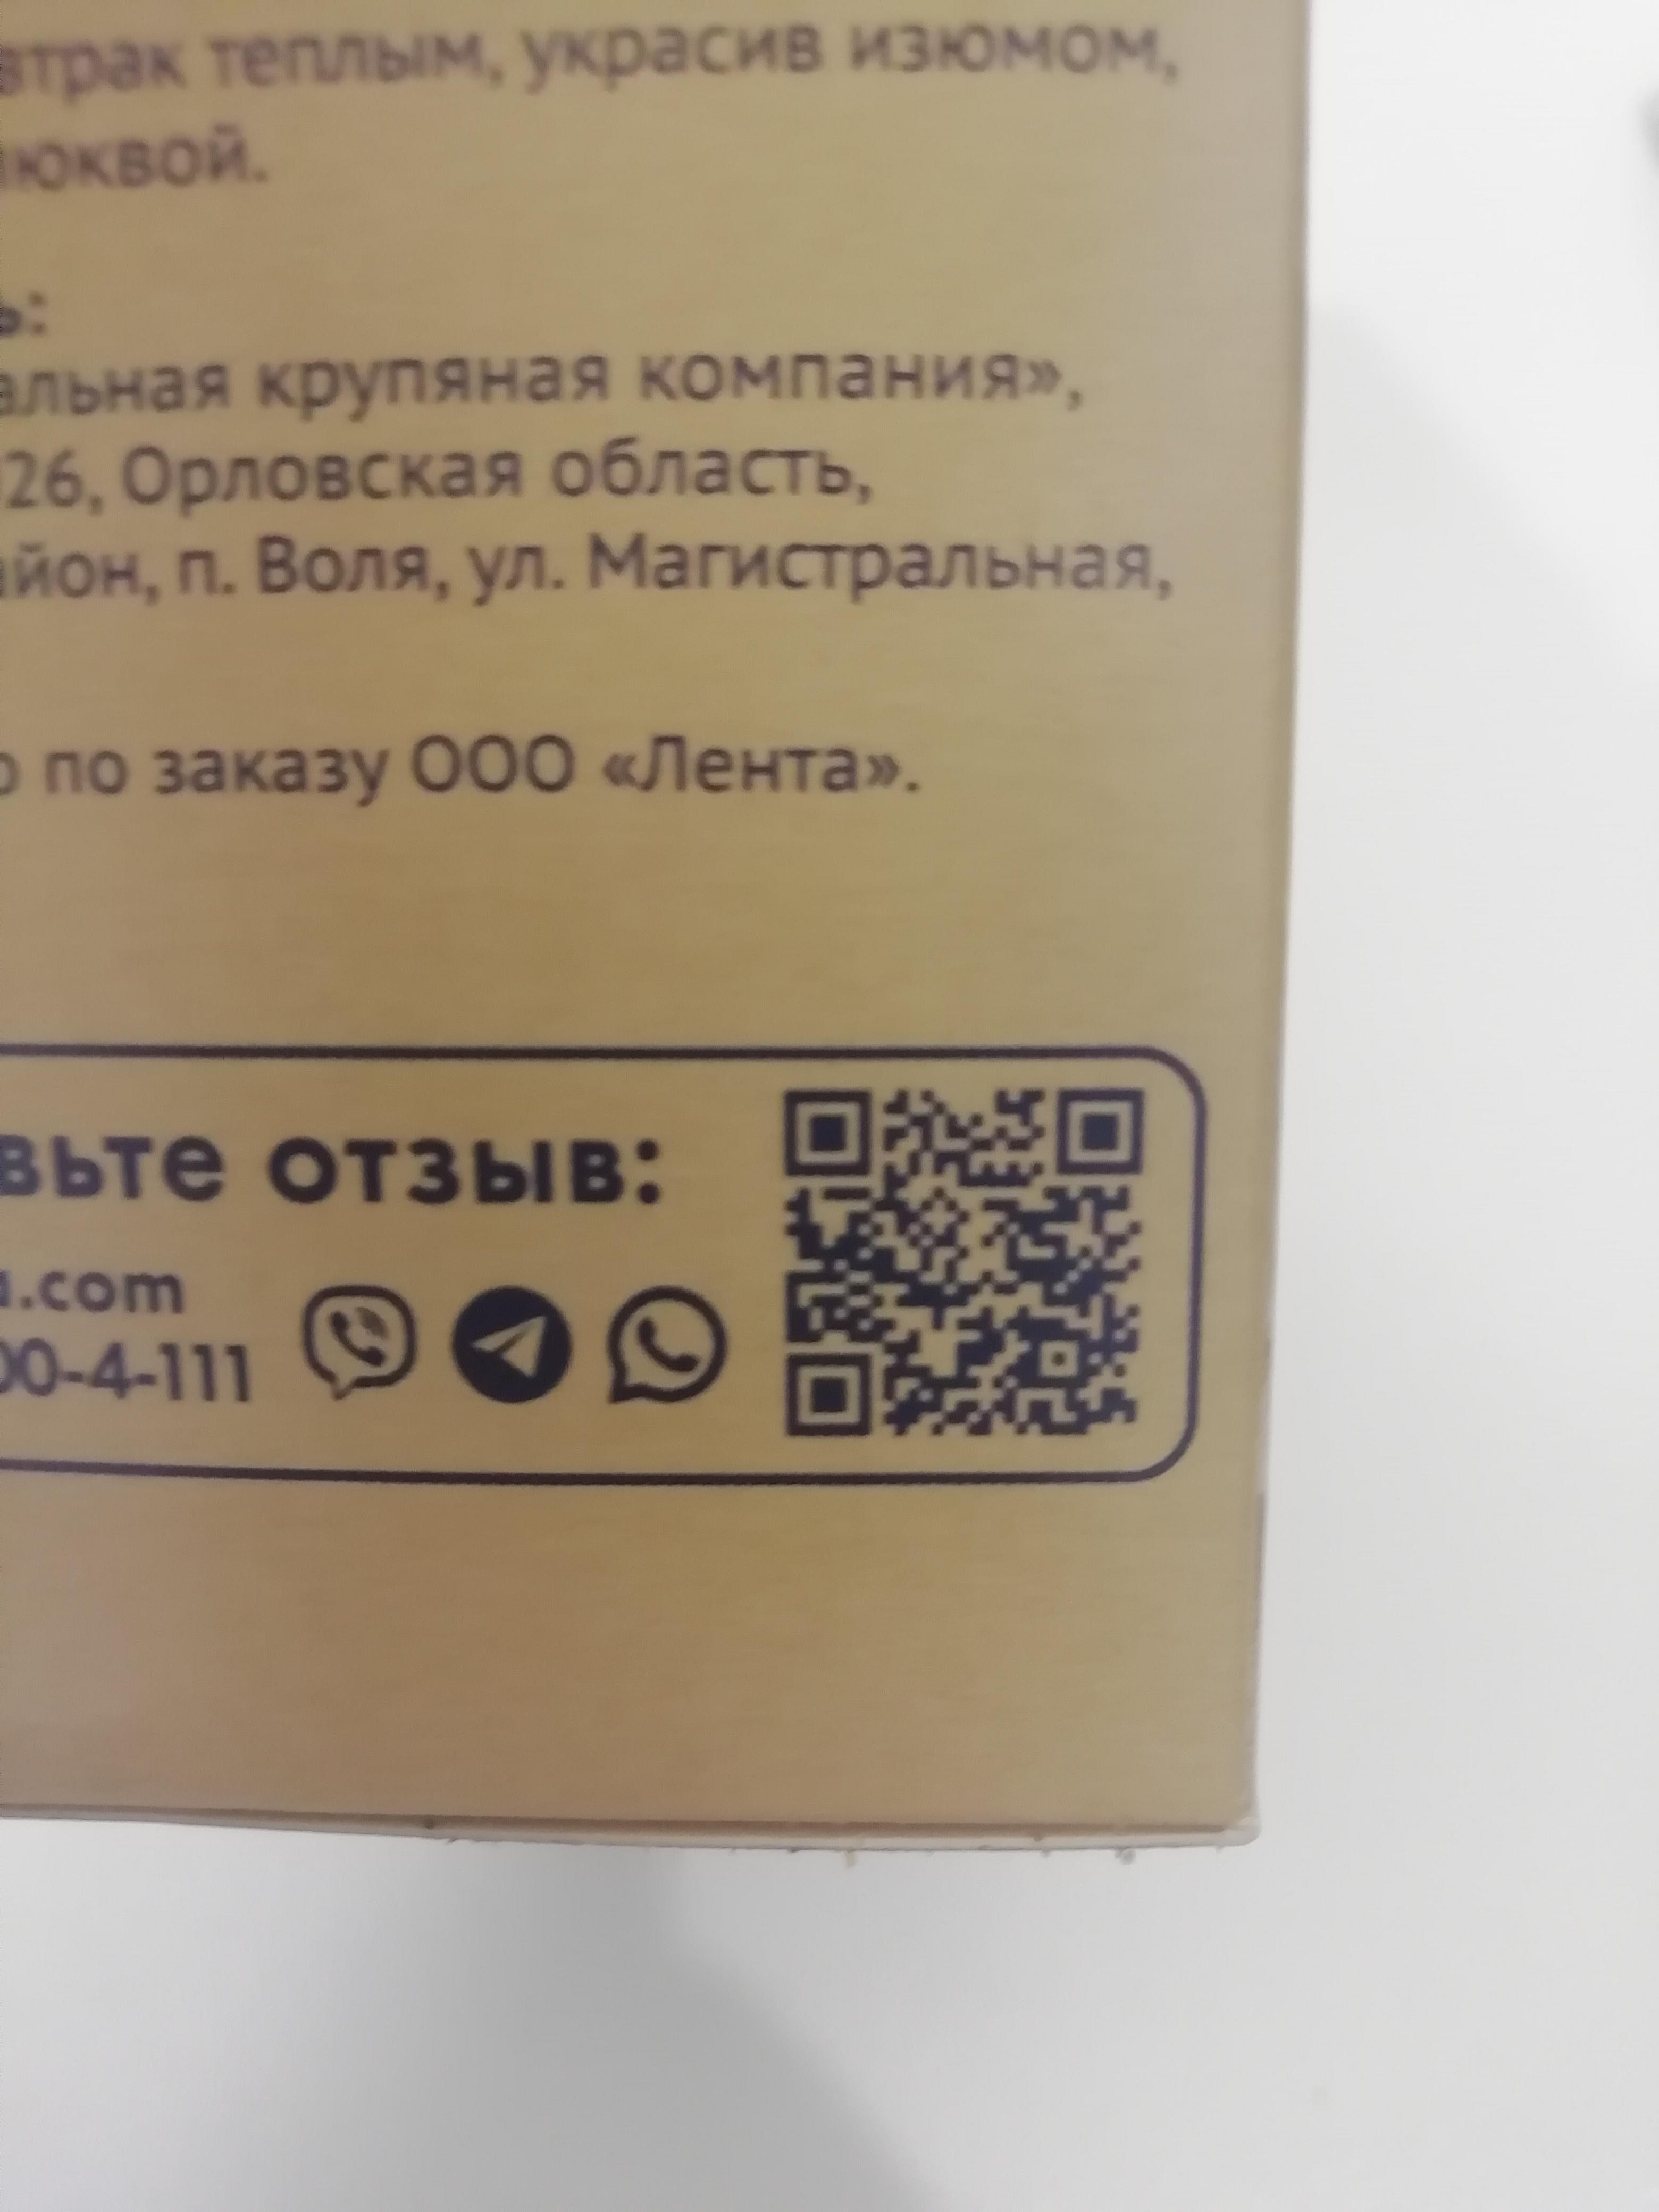qrcode: (782, 1089, 1147, 1444)
